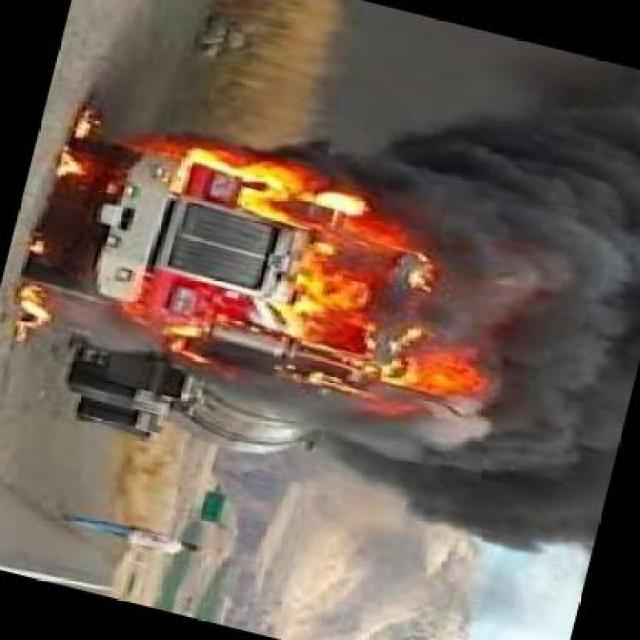Fire: (262, 250, 482, 396), (170, 151, 352, 223), (5, 259, 60, 340), (56, 109, 95, 197)
Smoke: (481, 129, 640, 556), (258, 416, 486, 542), (290, 122, 477, 175), (400, 175, 472, 250)
